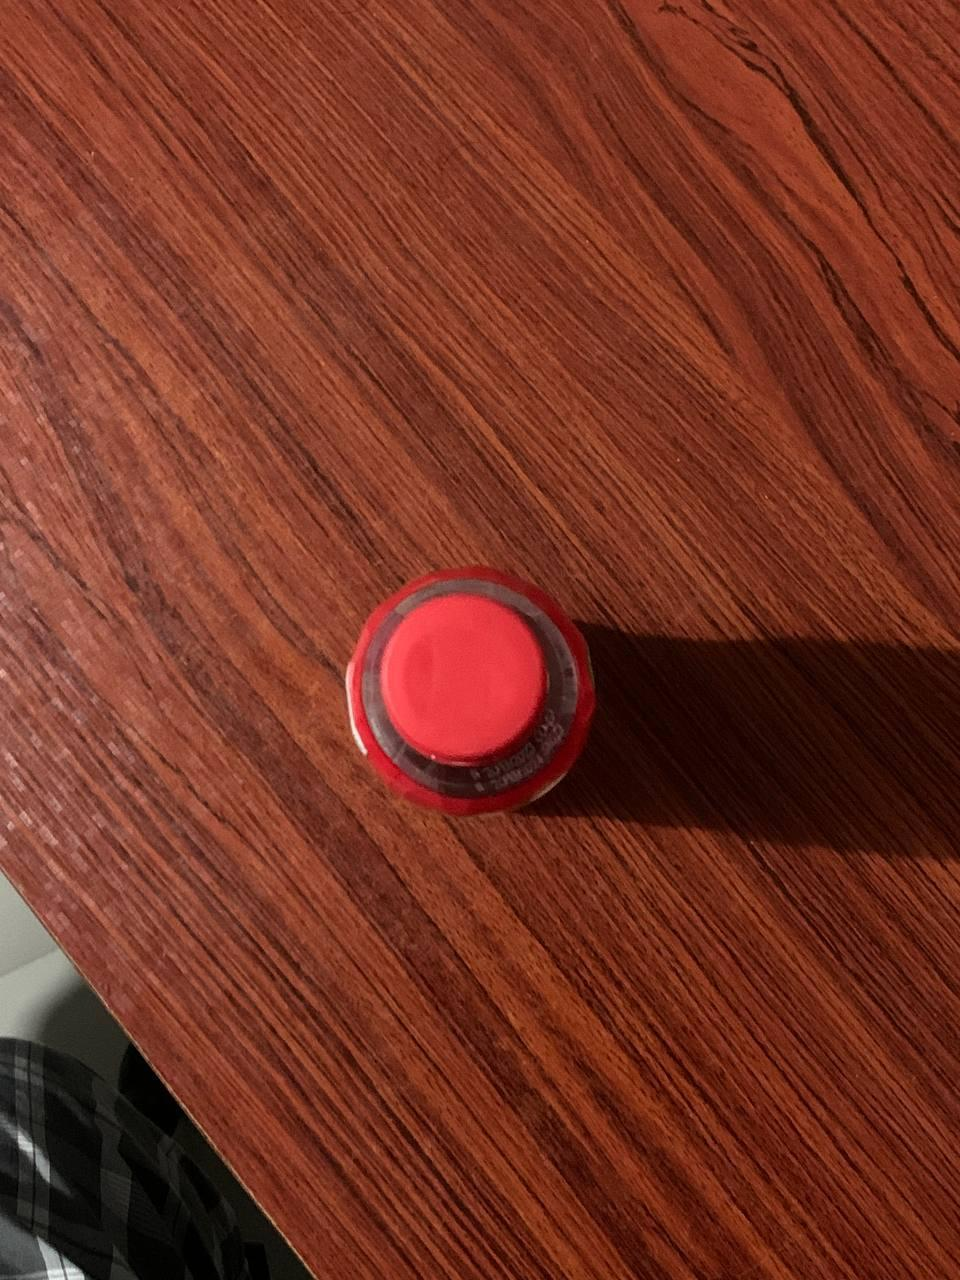plastic: (265, 511, 686, 874)
